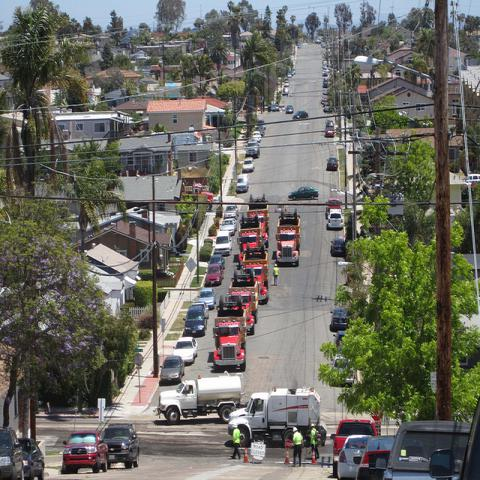car: (212, 156, 256, 256), (329, 418, 378, 476), (102, 422, 138, 469), (336, 436, 374, 479), (19, 440, 44, 478), (173, 336, 198, 366), (158, 356, 186, 382), (183, 306, 207, 336), (197, 287, 217, 310), (330, 308, 349, 331), (206, 264, 223, 284), (220, 219, 237, 236), (208, 254, 226, 268)
truck: (228, 388, 327, 448), (153, 371, 249, 423), (331, 419, 379, 478), (229, 268, 258, 336), (62, 431, 109, 472), (213, 320, 246, 372), (241, 246, 268, 306), (213, 302, 247, 346), (247, 192, 270, 248), (276, 213, 300, 263), (238, 215, 262, 248), (238, 232, 260, 266)
